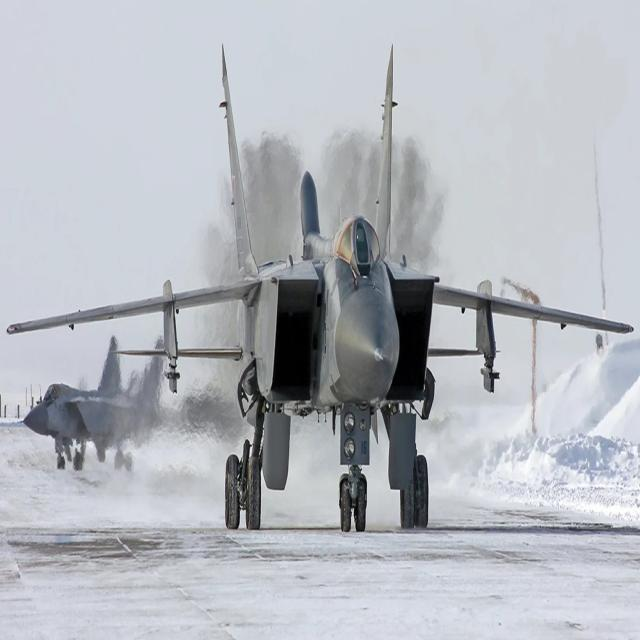MIL_Plane: (6, 42, 634, 532), (17, 334, 178, 472)
